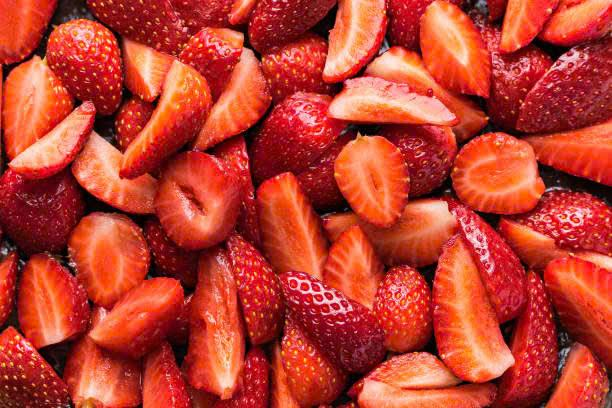strawberry: (2, 0, 315, 355), (342, 68, 612, 408)
